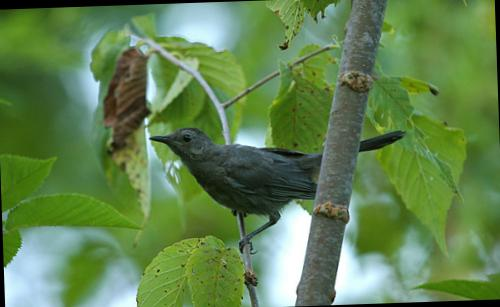bird: (140, 113, 414, 258)
